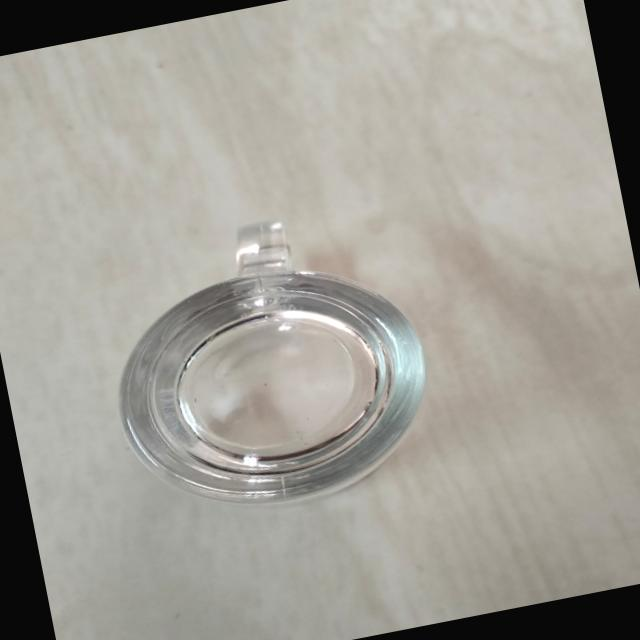glass-VX4N: (84, 193, 460, 536)
